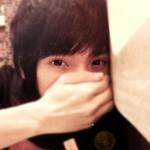face: (35, 26, 115, 118)
